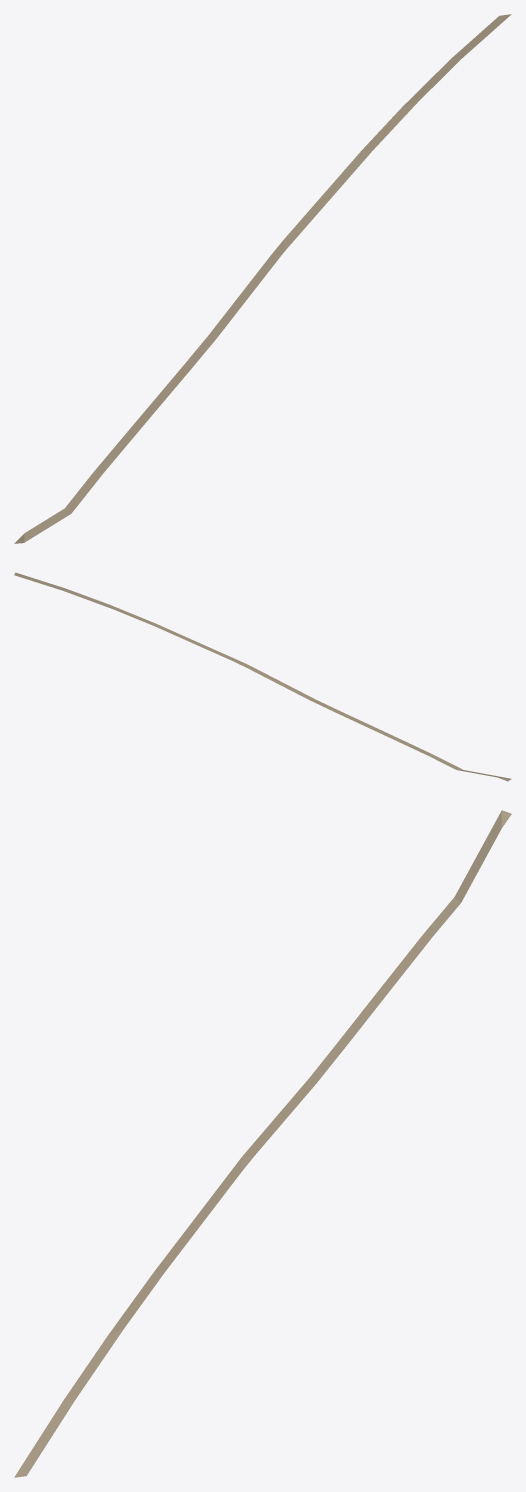
File: farm_8_-4_track.glb
The picture shows the model from 3 angles, top to bottom: view 1: azimuth 90°, elevation 25°; view 2: azimuth 150°, elevation 25°; view 3: azimuth 270°, elevation 25°; orthographic projection. The views are drawn at different scales.
Visible parts, largest first — view 1: geometry_0; view 2: geometry_0; view 3: geometry_0.
Part boxes in pixels (x1=…): geometry_0: x1=14, y1=14, x2=511, y2=543; geometry_0: x1=14, y1=572, x2=511, y2=781; geometry_0: x1=14, y1=810, x2=511, y2=1477.
Bounding box in the file's own units: 435 × 23.53 × 153.
